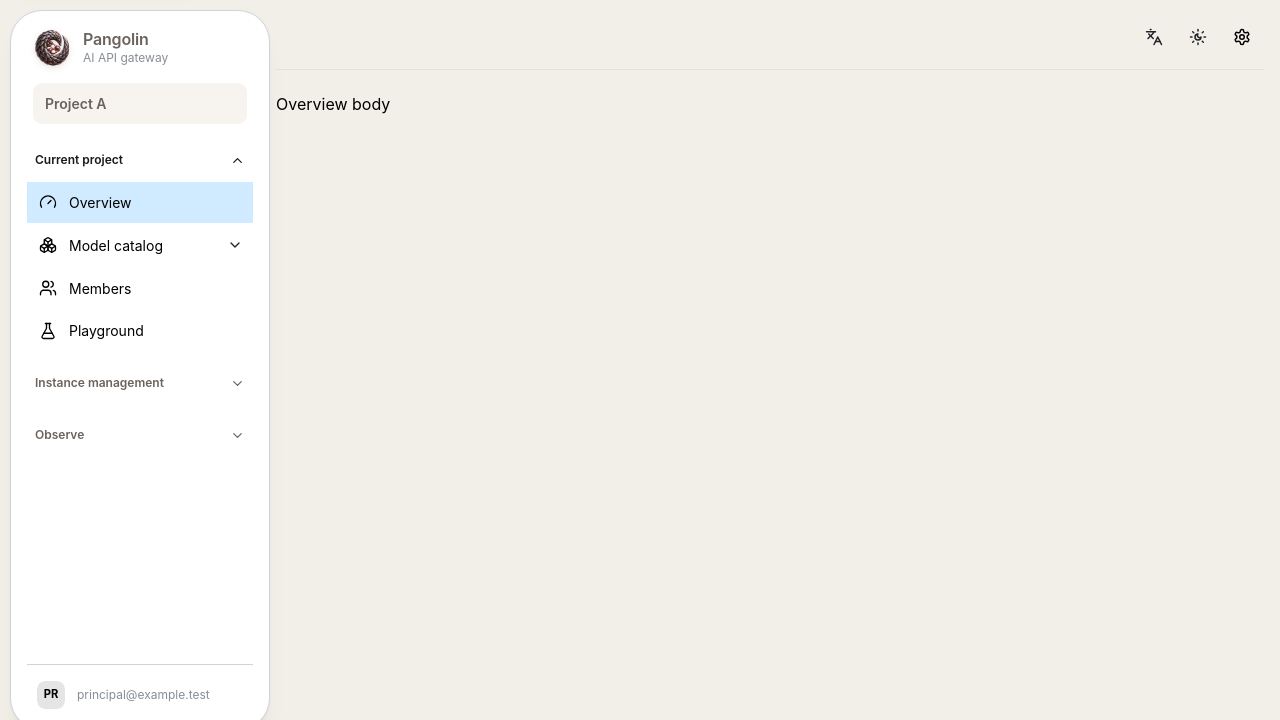
Test: sidebar gating › offers the Models link to a catalog manager who can read a project
The width and height of the screenshot is (1280, 720).
Click the button "Instance management": click(140, 383) [27,363,253,403]
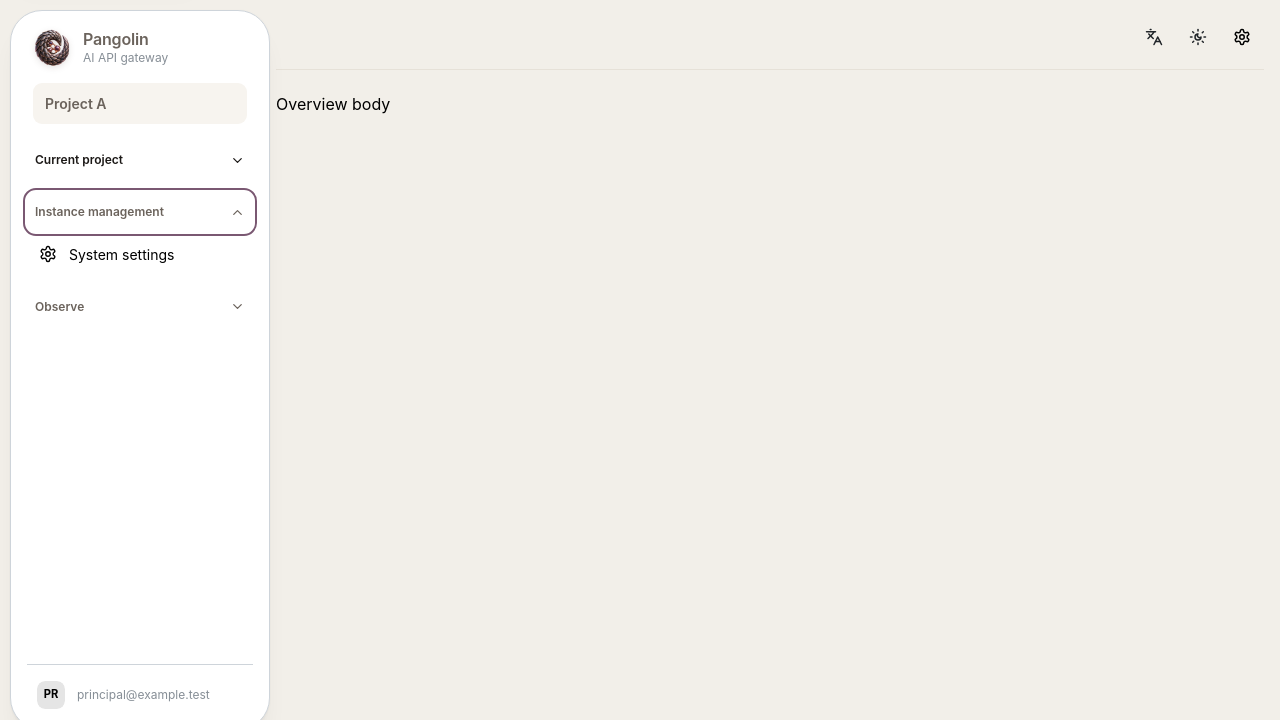
Expected: the link "System settings" is shown, [39,245,174,263]
